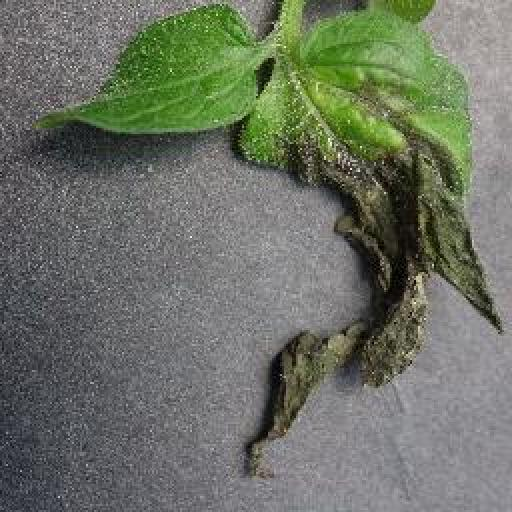disease_tomato: (238, 12, 502, 487)
